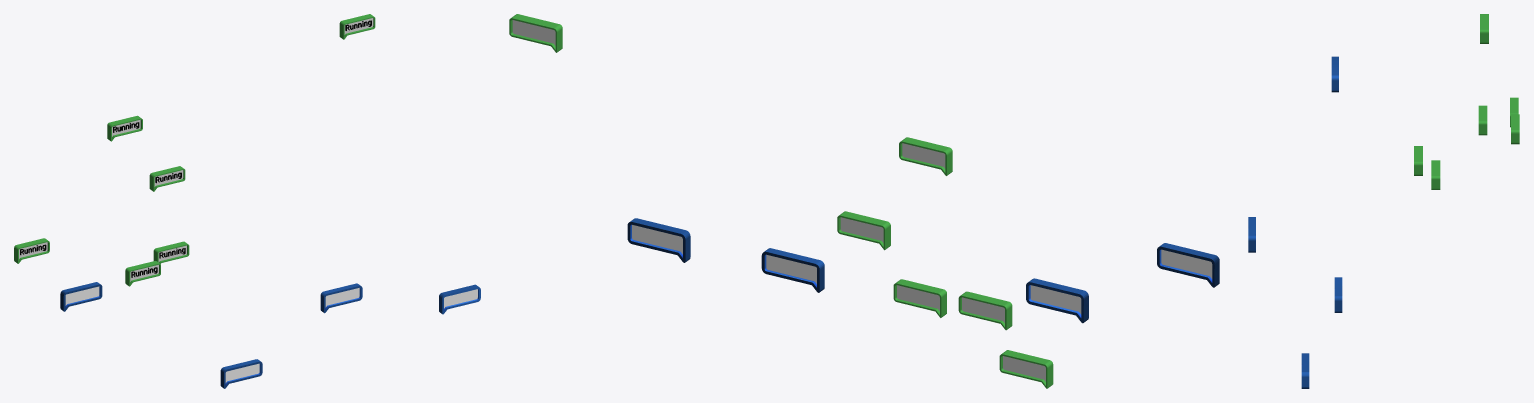
The model's file is pop_up_games.glb.
The picture shows the model from 3 angles, left to right: view 1: azimuth 30°, elevation 25°; view 2: azimuth 150°, elevation 25°; view 3: azimuth 270°, elevation 25°; orthographic projection. The views are drawn at different scales.
Parts seen in each view (by area): view 1: pop_up_running, pop_up_games, pop_up_share_knowledge, pop_up_photography_left, pop_up_running.004, pop_up_running.009, pop_up_running.003, pop_up_running.008, pop_up_running.005, pop_up_running.007; view 2: pop_up_photography_left, pop_up_share_knowledge, pop_up_running, pop_up_games, pop_up_running.008, pop_up_running.003, pop_up_running.004, pop_up_running.005, pop_up_running.009, pop_up_running.007; view 3: pop_up_share_knowledge, pop_up_photography_left, pop_up_running.004, pop_up_running.007, pop_up_games, pop_up_running, pop_up_running.009, pop_up_running.005, pop_up_running.008.
Boxes of the visible parts, x1=… form: pop_up_running: x1=220, y1=359, x2=262, y2=388; pop_up_games: x1=60, y1=282, x2=102, y2=311; pop_up_share_knowledge: x1=320, y1=283, x2=362, y2=313; pop_up_photography_left: x1=439, y1=284, x2=480, y2=314; pop_up_running.004: x1=149, y1=166, x2=185, y2=191; pop_up_running.009: x1=339, y1=14, x2=375, y2=39; pop_up_running.003: x1=14, y1=238, x2=49, y2=263; pop_up_running.008: x1=125, y1=261, x2=160, y2=286; pop_up_running.005: x1=107, y1=115, x2=142, y2=141; pop_up_running.007: x1=153, y1=241, x2=189, y2=263; pop_up_photography_left: x1=627, y1=218, x2=690, y2=262; pop_up_share_knowledge: x1=761, y1=248, x2=824, y2=292; pop_up_running: x1=1026, y1=278, x2=1088, y2=323; pop_up_games: x1=1157, y1=243, x2=1219, y2=287; pop_up_running.008: x1=958, y1=291, x2=1012, y2=330; pop_up_running.003: x1=999, y1=350, x2=1053, y2=388; pop_up_running.004: x1=837, y1=211, x2=890, y2=250; pop_up_running.005: x1=899, y1=137, x2=952, y2=175; pop_up_running.009: x1=509, y1=14, x2=562, y2=52; pop_up_running.007: x1=893, y1=279, x2=946, y2=317; pop_up_share_knowledge: x1=1334, y1=277, x2=1342, y2=312; pop_up_photography_left: x1=1301, y1=353, x2=1309, y2=388; pop_up_running.004: x1=1478, y1=105, x2=1487, y2=135; pop_up_running.007: x1=1431, y1=160, x2=1440, y2=189; pop_up_games: x1=1331, y1=56, x2=1338, y2=92; pop_up_running: x1=1248, y1=217, x2=1255, y2=252; pop_up_running.009: x1=1511, y1=114, x2=1519, y2=144; pop_up_running.005: x1=1480, y1=14, x2=1488, y2=43; pop_up_running.008: x1=1414, y1=146, x2=1422, y2=175.
Bounding box in the file's own units: 33.82 × 18.01 × 17.28.
Materials: 7 (4 with a texture image).
